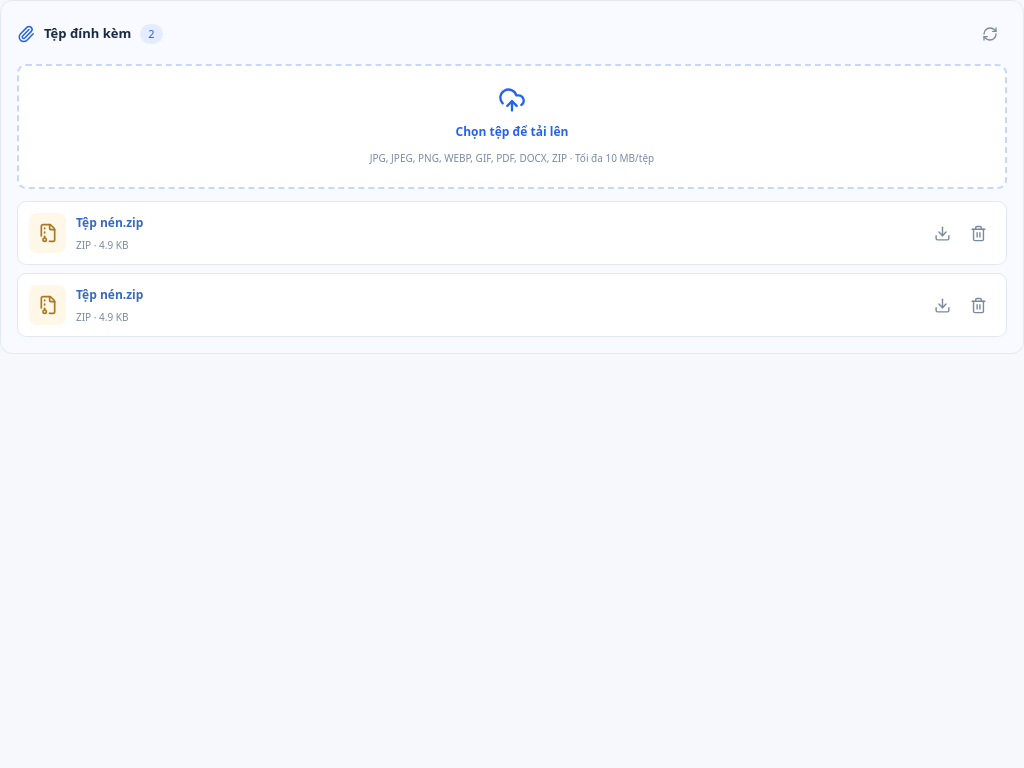
Test case: Task attachment management › keeps same-name uploads separate by ID
Expected: the file field named "Chọn tệp đính kèm" is enabled, x1=0 y1=85 x2=1023 y2=127
Click the 2nd button named "Xóa Tệp nén.zip": (978, 305) x1=961 y1=288 x2=995 y2=322
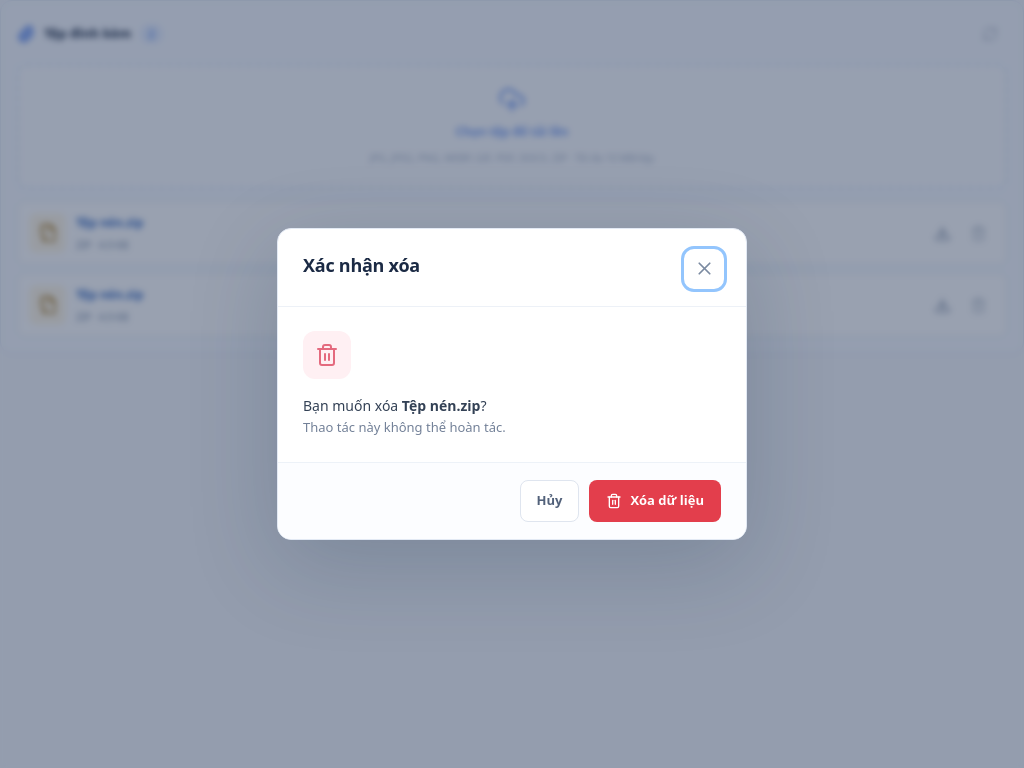
Click the button "Xóa dữ liệu": (655, 501) x1=589 y1=480 x2=721 y2=522
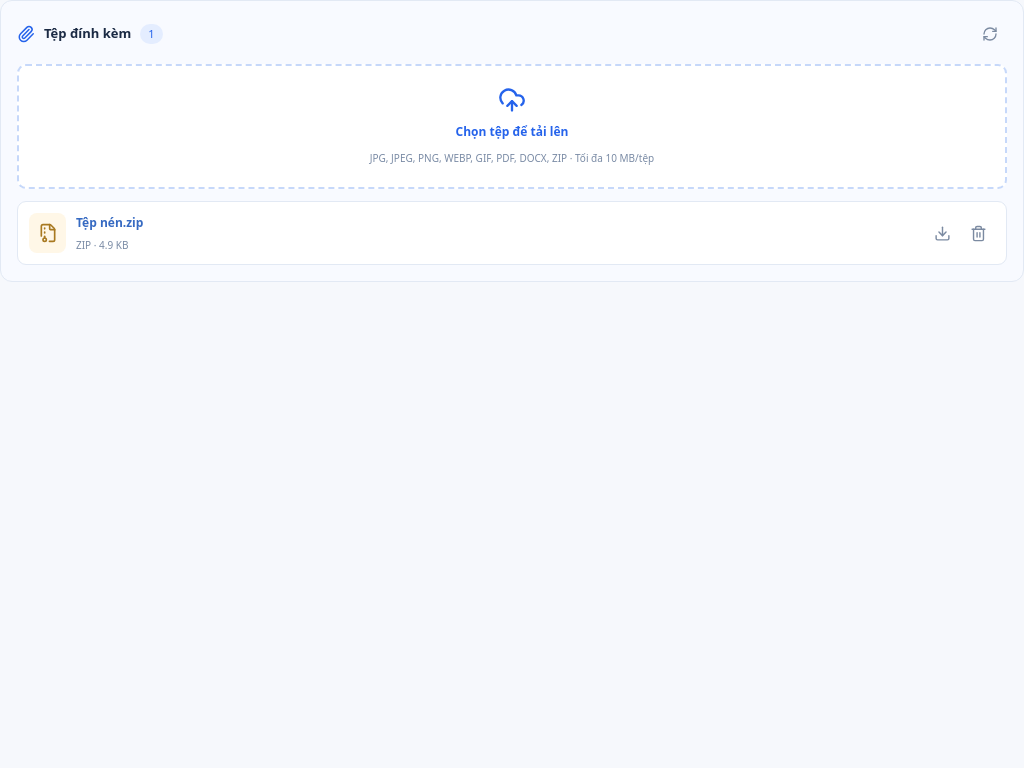
Expected: the text named "1 tệp đính kèm" is shown, x1=140 y1=24 x2=163 y2=44
